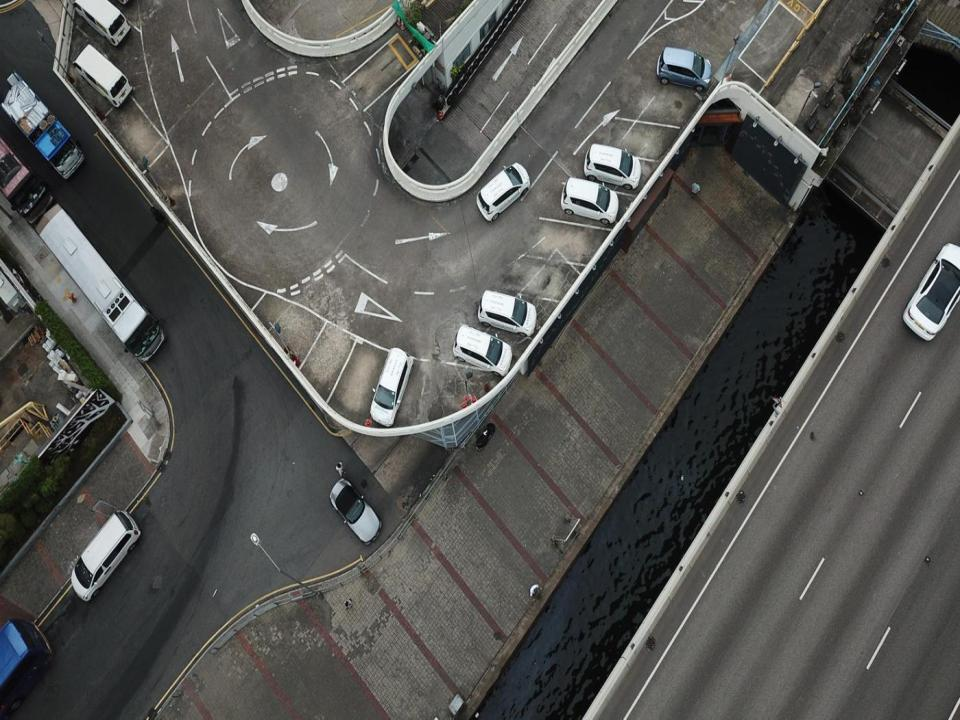bus: (35, 203, 167, 363)
car: (71, 509, 141, 603), (901, 242, 960, 340), (369, 346, 417, 428), (453, 321, 513, 382), (328, 478, 381, 544), (474, 161, 530, 223), (477, 285, 538, 339), (560, 174, 619, 228), (583, 141, 642, 190), (656, 44, 713, 93)
truck: (0, 69, 85, 181), (0, 132, 55, 223)
van: (1, 618, 53, 716), (72, 44, 136, 105), (77, 0, 132, 46)
